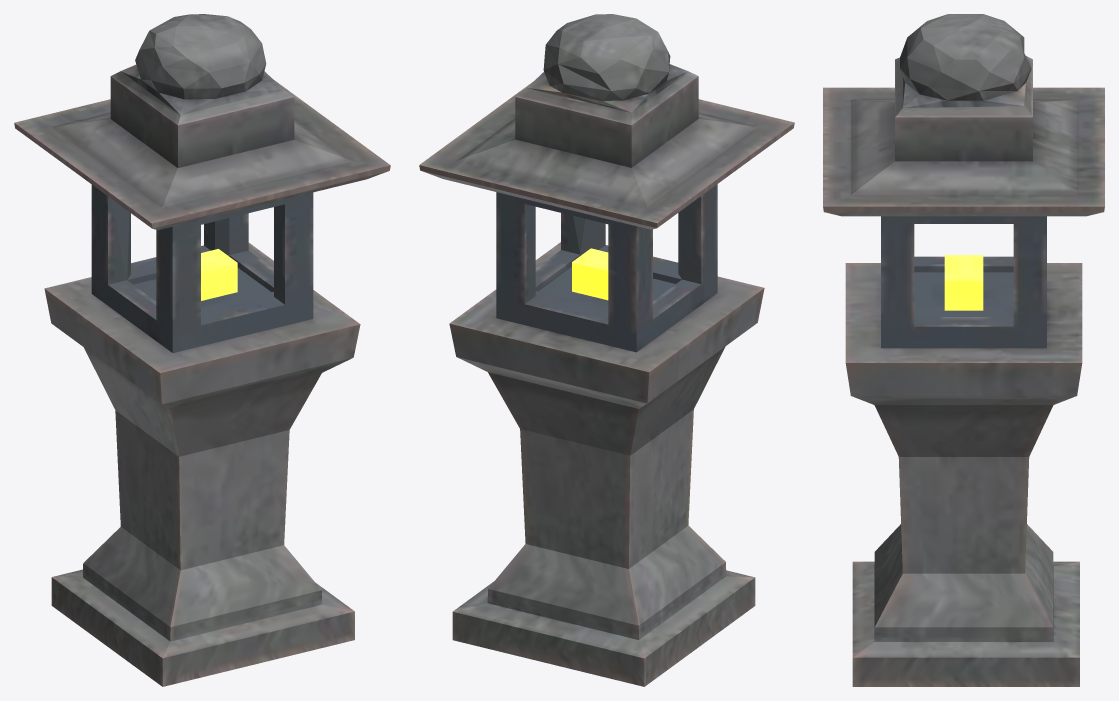
Rendered from linterna_piedra.glb.
The picture shows the model from 3 angles, left to right: view 1: azimuth 30°, elevation 25°; view 2: azimuth 150°, elevation 25°; view 3: azimuth 270°, elevation 25°; orthographic projection. The views are drawn at different scales.
Visible parts, largest first — view 1: lamp; view 2: lamp; view 3: lamp.
Boxes of the visible parts, box(x1,y1,x2,y2) form: lamp: box(14, 14, 390, 686); lamp: box(419, 14, 794, 686); lamp: box(823, 14, 1104, 686).
Bounding box in the file's own units: 5.29 × 12.67 × 5.29.
1 material, 1 textured.
